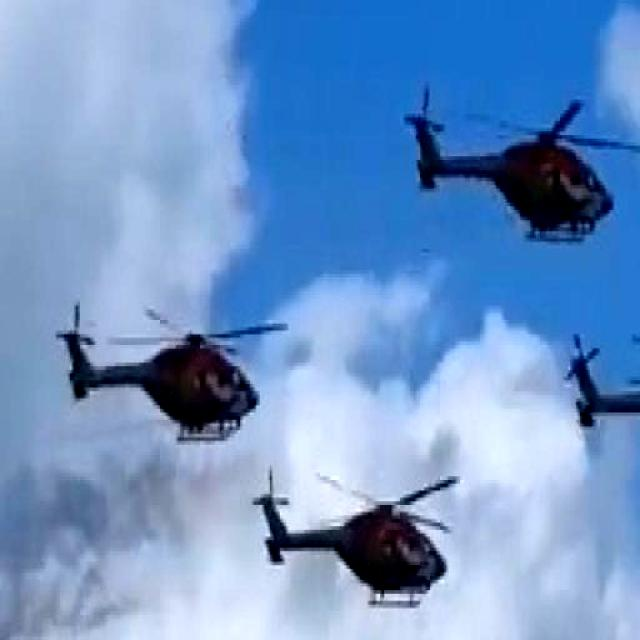drone: (404, 66, 640, 255), (52, 300, 288, 456), (254, 478, 460, 614), (545, 289, 640, 502)
